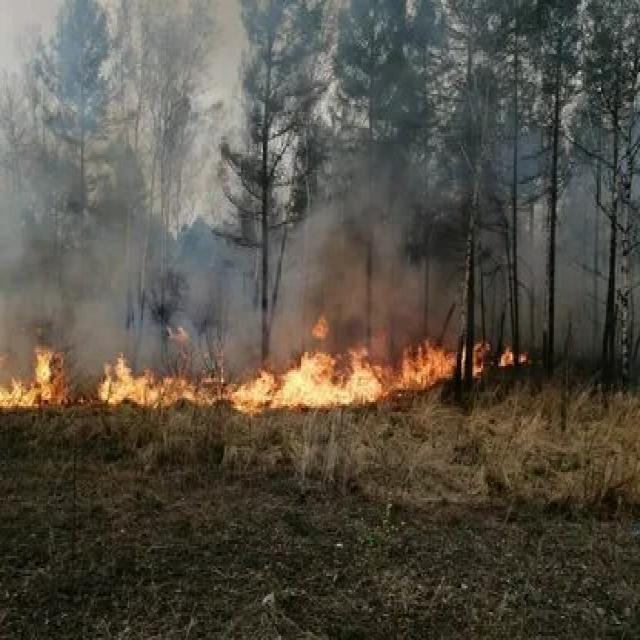Fire: (9, 306, 516, 429)
Smoke: (0, 0, 571, 333)
